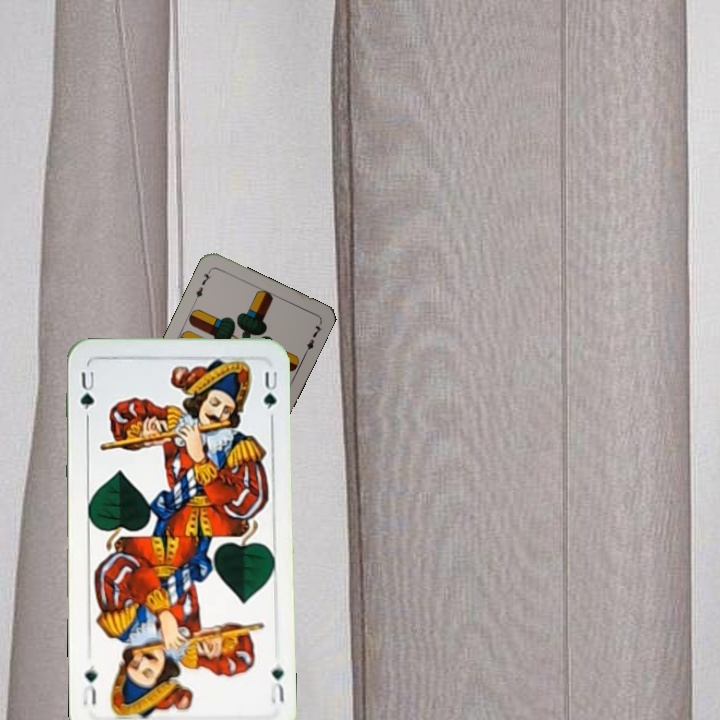E7: (190, 266, 213, 304)
GU: (76, 367, 97, 422), (266, 659, 286, 706)
